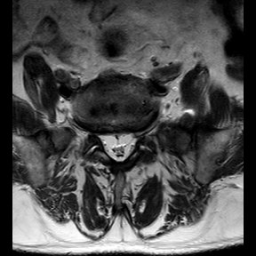CCS_normal: (112, 120, 123, 169)
LFS_stenosis: (136, 119, 144, 147)
LLS_normal: (124, 122, 136, 164)
RFS_severe_stenosis: (90, 120, 99, 146)
RLS_normal: (100, 120, 111, 162)
